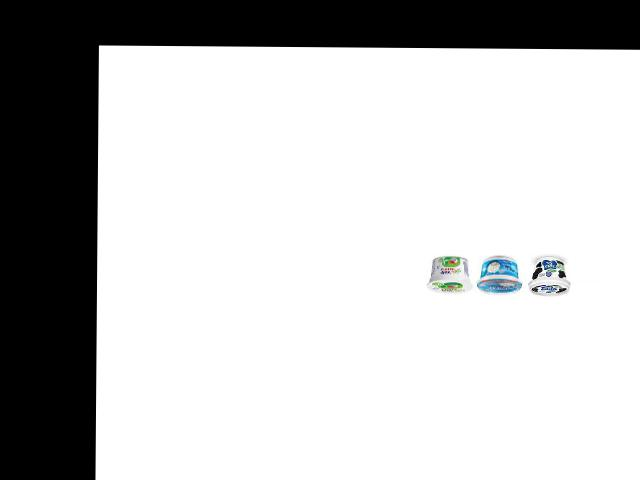cotage: (424, 252, 474, 296)
